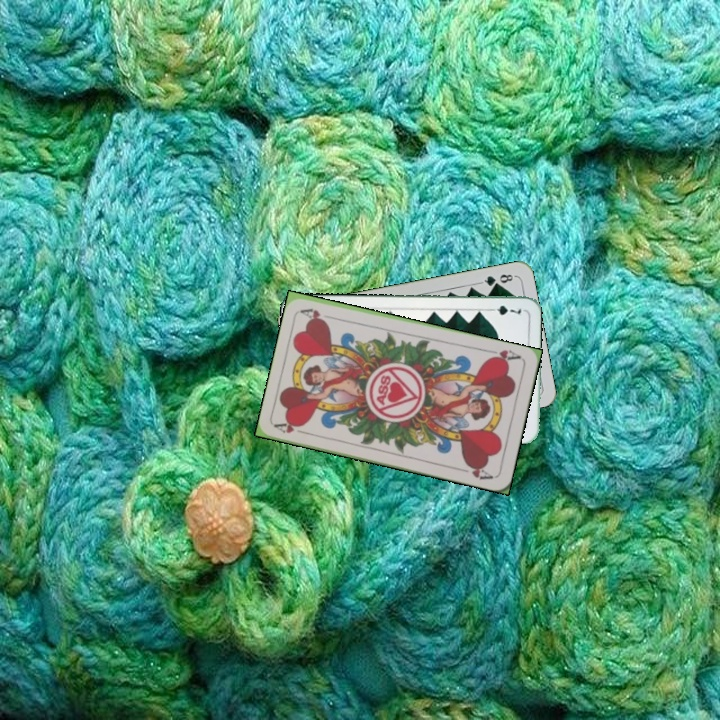G7: (484, 302, 523, 317)
G8: (477, 270, 518, 289)
HA: (483, 345, 524, 366), (272, 418, 312, 437)
